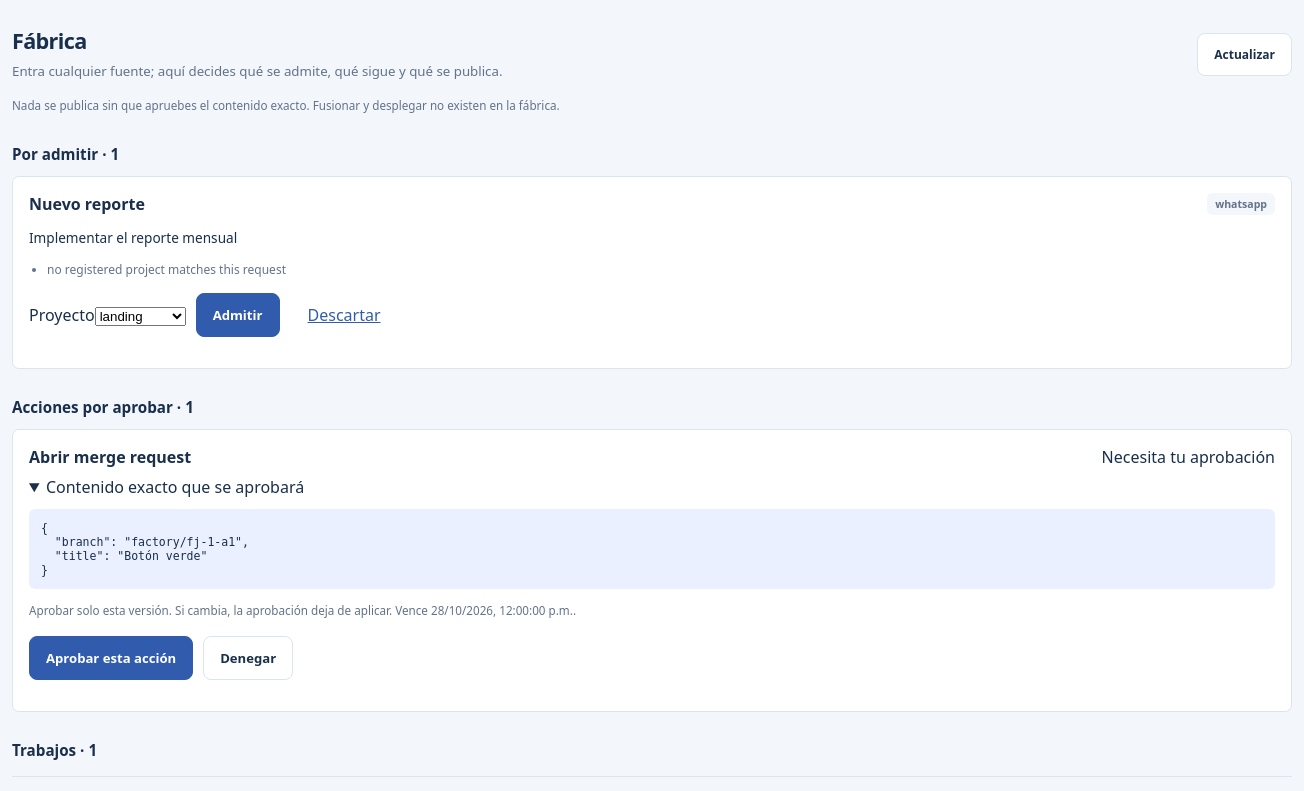
Scenario: Fábrica › admite en el proyecto elegido y avisa si el servidor no confirmó la acción
Expected: the text "Nuevo reporte" is shown, [29,193,145,215]
Step 1. Select "etl-lambdas" in the dropdown labelled "Proyecto" → [140, 316], box [95,307,186,326]
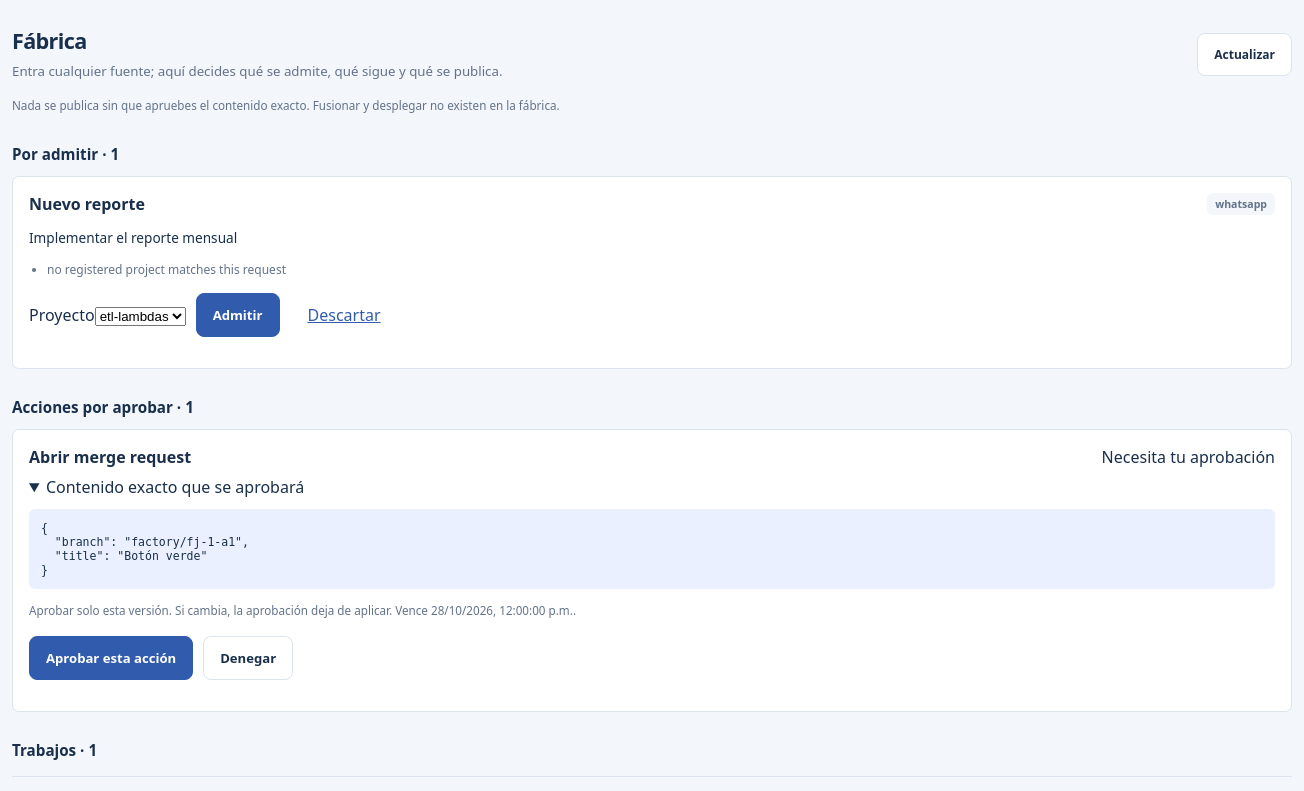
Step 2. Click the button "Admitir" → [238, 315], box [196,293,280,337]
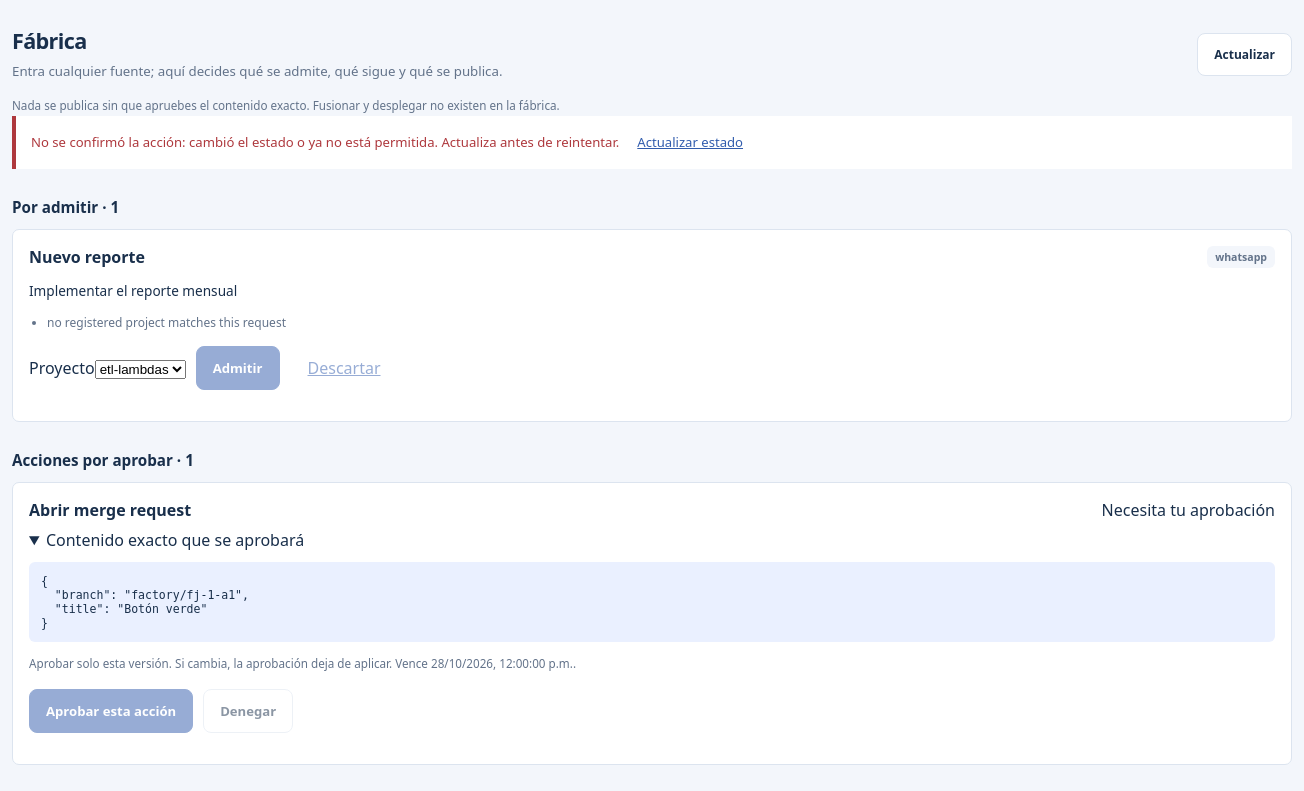
Expected: the message shows "No se confirmó la acción", [31,133,619,151]
